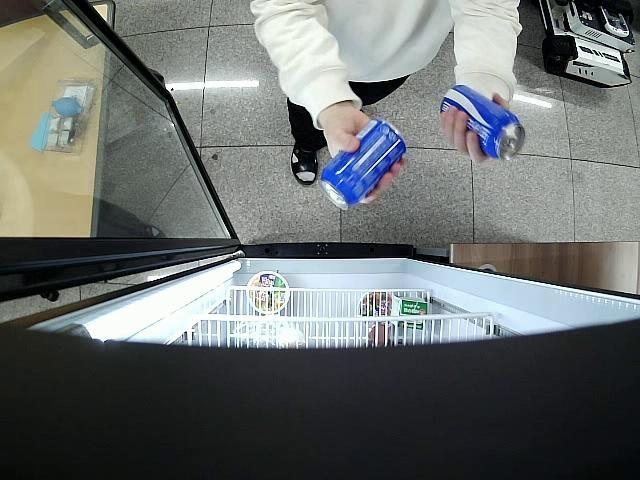13_pocariSweat: (319, 118, 405, 210), (440, 83, 525, 161)
